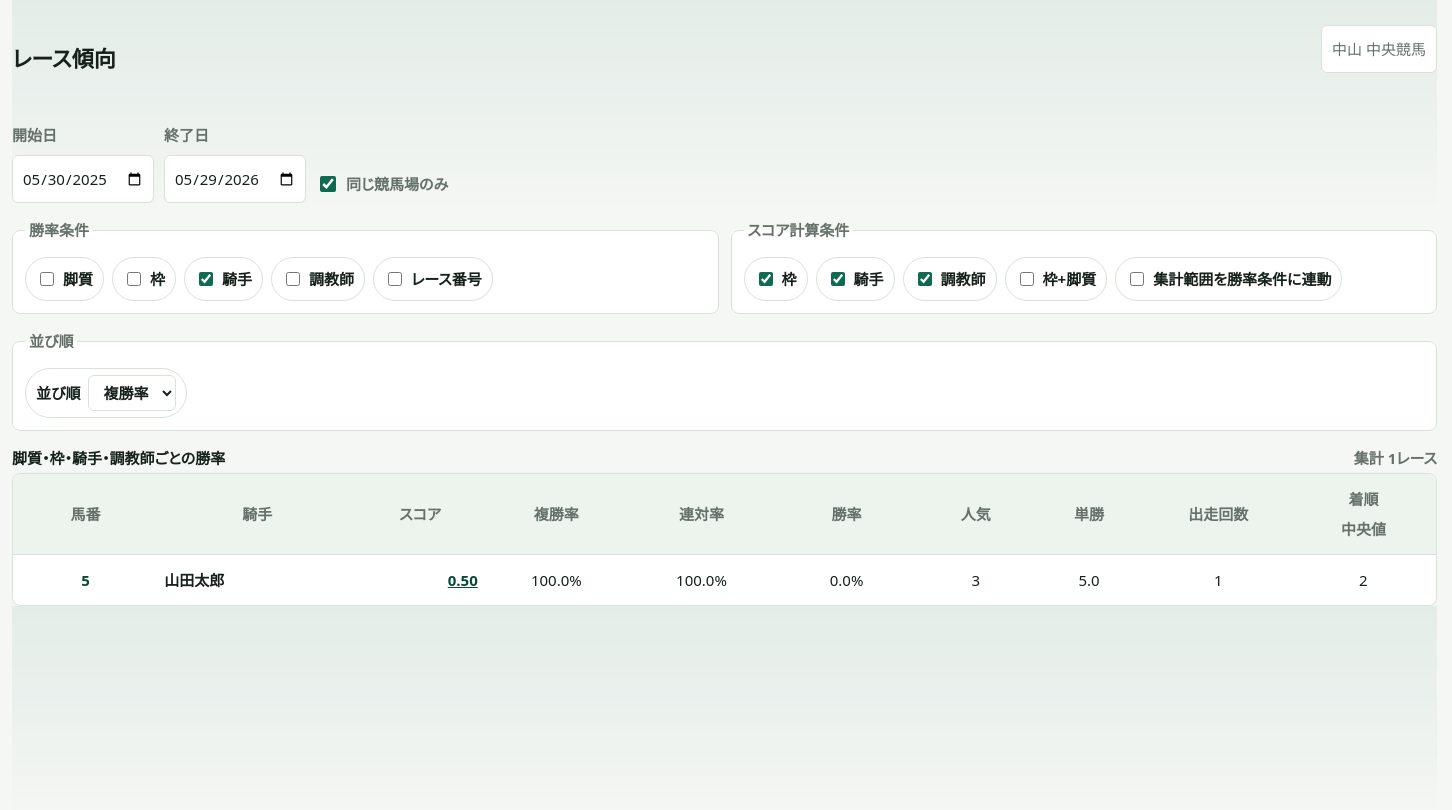
Test: expanded detail table tbody renders the trainer name from the starter row
This screenshot has width=1452, height=810.
Click the button with class "race-trend-detail-toggle" at (86, 580), box x1=81 y1=565 x2=90 y2=595
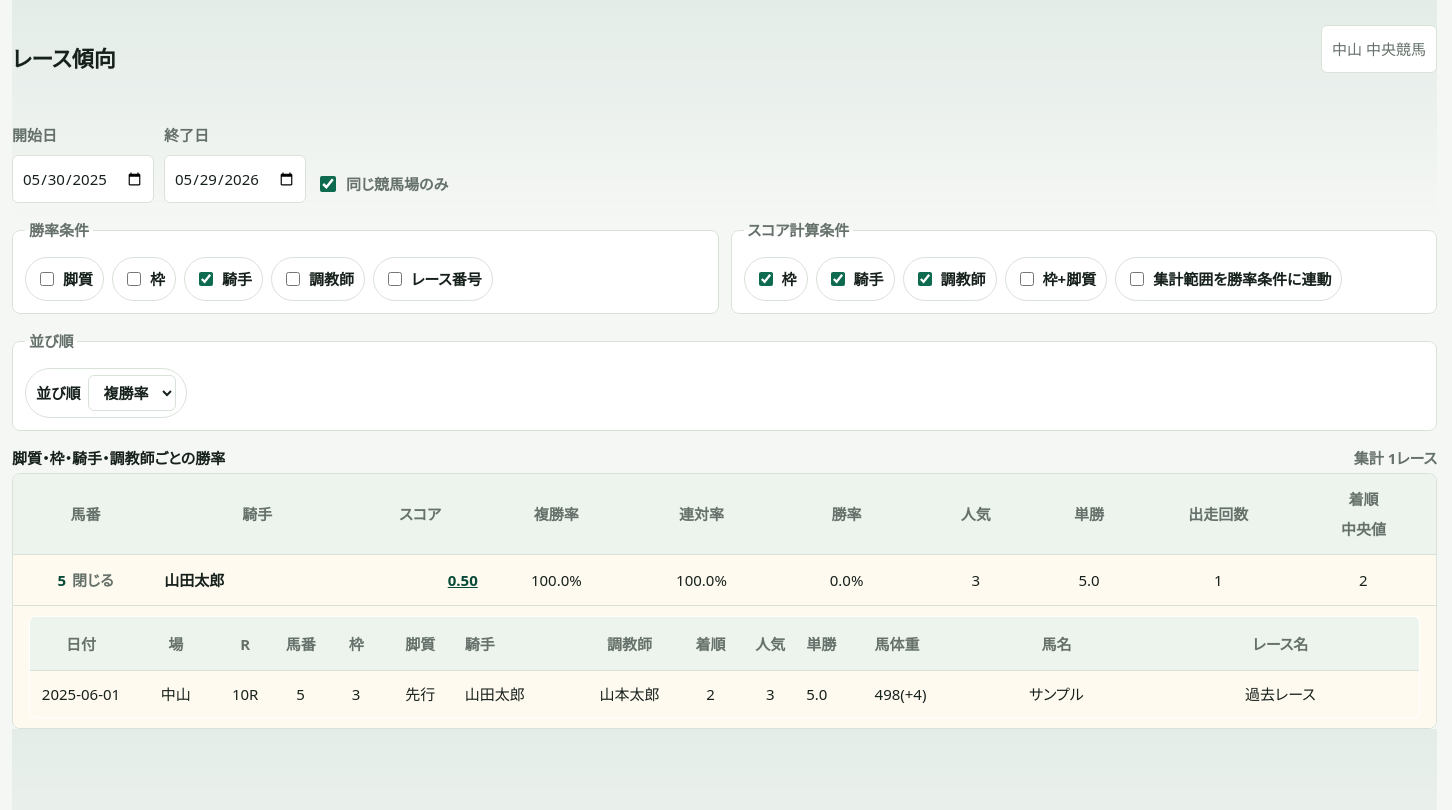
Expected: the cell with class "race-trend-detail-trainer" reads "山本太郎", x1=599 y1=684 x2=659 y2=704
